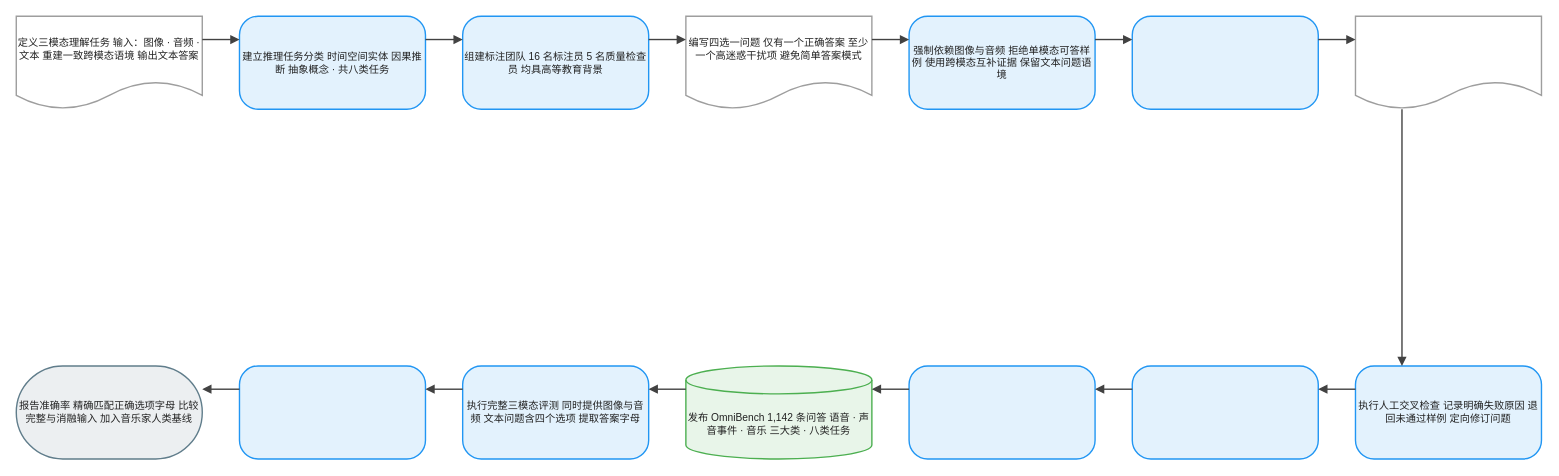
The diagram is 1559 pixels wide and 476 high, and some of its shapes have lost their labels. Each missing label, with the box of its shape:
应用数据约束 图像分辨率不低于 480P 音频时长不超过 30 秒 限制重复来源与相似问题: (1131, 15, 1319, 110)
执行模态消融 移除图像或音频 用人工音频转写替代 用模型图像描述替代: (238, 365, 426, 459)
标注支撑证据 提供音频转写或音乐描述 给出图像专属理由 给出音频专属理由: (1354, 15, 1542, 110)
检验跨模态必要性 仅接受拒答或答错样例 回收可修订数据 丢弃难以修复的样例: (908, 365, 1095, 459)
运行 LLaVA-1.6-34B 检查 仅图像加文本 仅音频转写加文本 纯文本重复测试三次: (1131, 365, 1319, 459)
